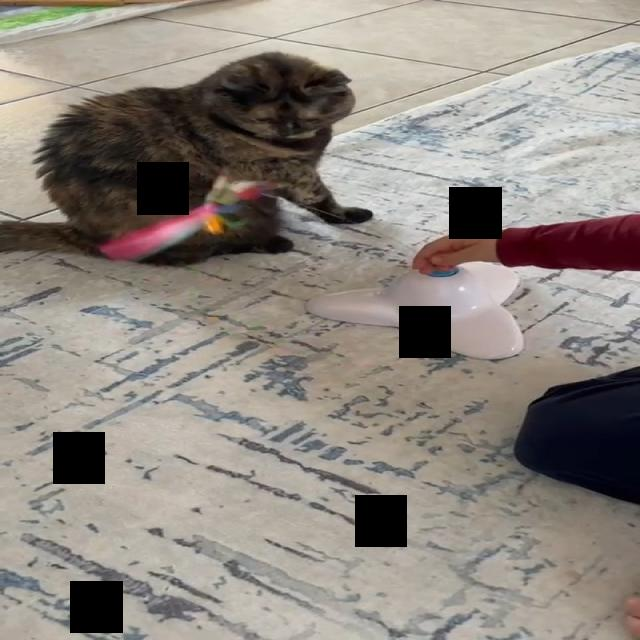authorized: (0, 50, 373, 267)
